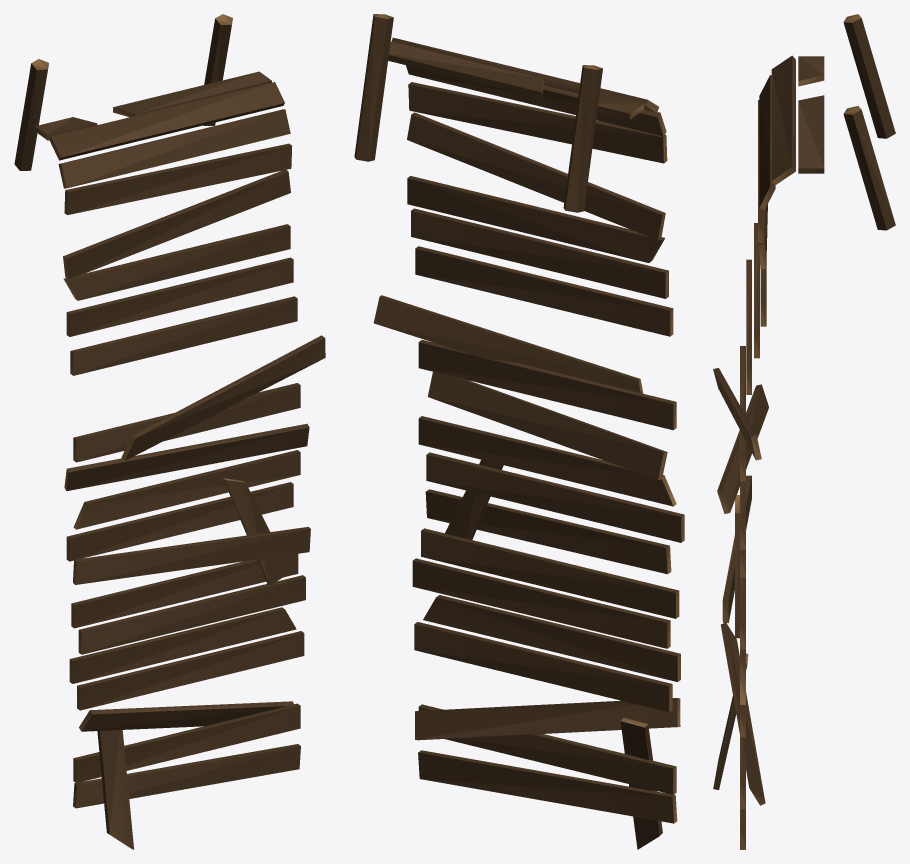
Rendered from Bridge_3A_Lod1.fbx.
3 views of the same model, side by side, from view 1: azimuth 30°, elevation 25°; view 2: azimuth 150°, elevation 25°; view 3: azimuth 270°, elevation 25° (orthographic). The views are drawn at different scales.
Parts seen in each view (by area): view 1: polySurface602; view 2: polySurface602; view 3: polySurface602.
Part boxes in pixels (bbox=[...]): polySurface602: bbox=[14, 14, 325, 849]; polySurface602: bbox=[354, 14, 684, 849]; polySurface602: bbox=[713, 14, 895, 849].
Bounding box in the file's own units: 471 × 1269 × 276.
Materials: 1 (1 with a texture image).
